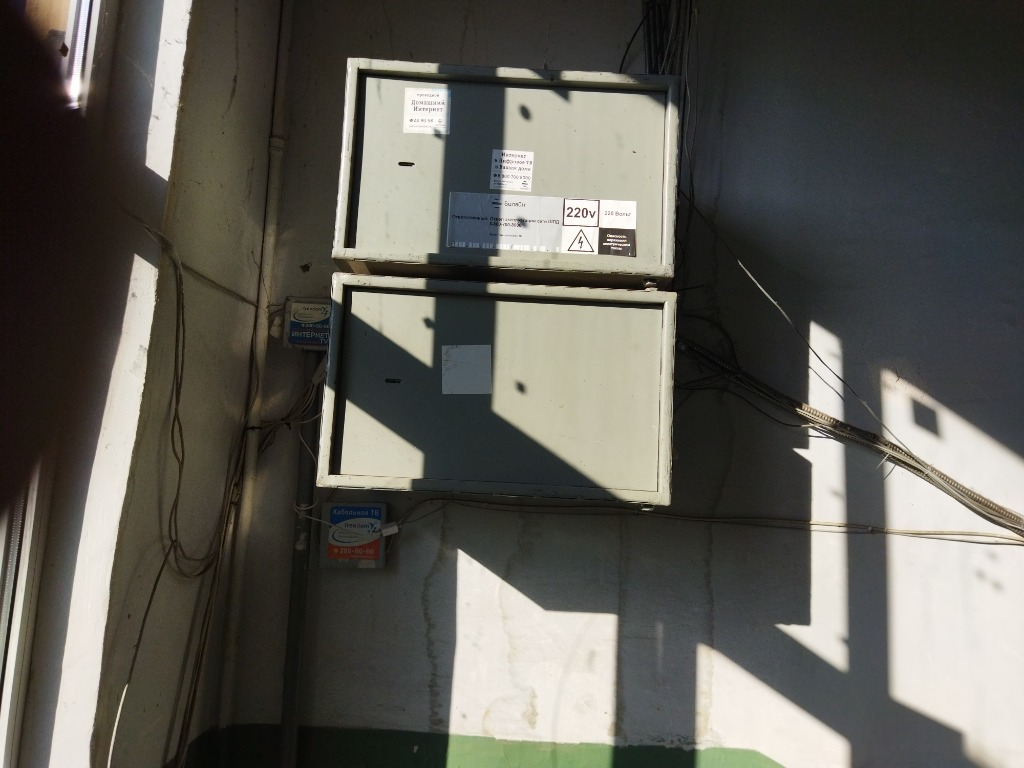e2-6u: (312, 269, 678, 510), (325, 54, 687, 280)
